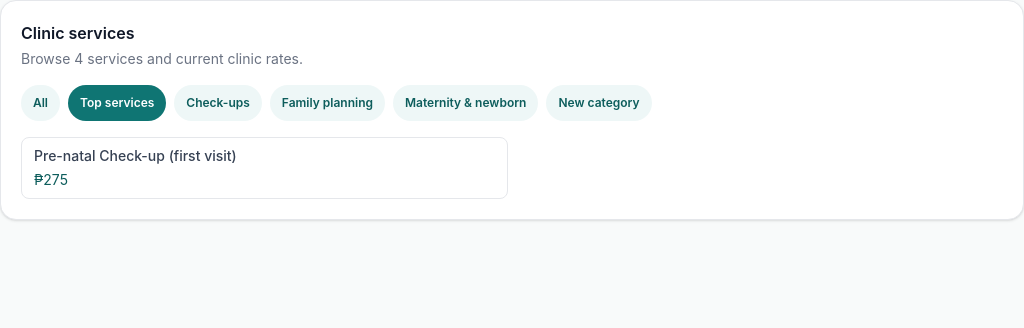
Test: patient clinic service prices › shows newly configured services and categories from the API
Click the button "All". click: [40, 103]
box: [21,85,60,121]
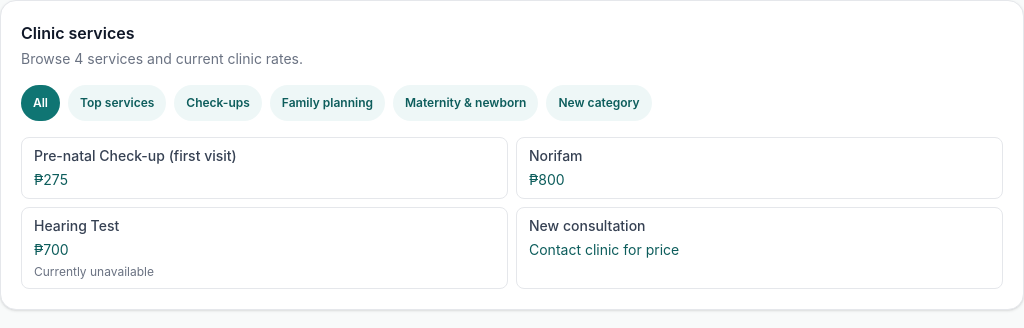
Check: the text "New consultation" is shown, box [529,217,646,234]
Check: the text "Contact clinic for price" is shown, box [529,241,679,258]
